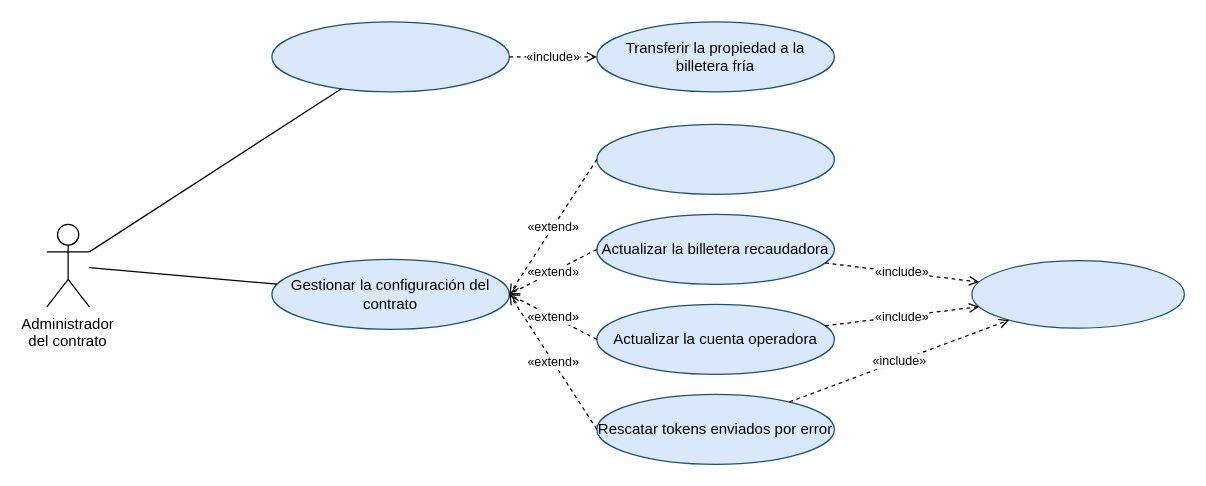
The diagram is 1206 pixels wide and 486 high, and some of its shapes have lost their labels. Here are the shapes that lost their labels. From the top down, the centre of each, then its label:
(390,56): Desplegar el contrato inteligente
(715,158): Consultar la configuración vigente
(1077,293): Firmar con la billetera fría
